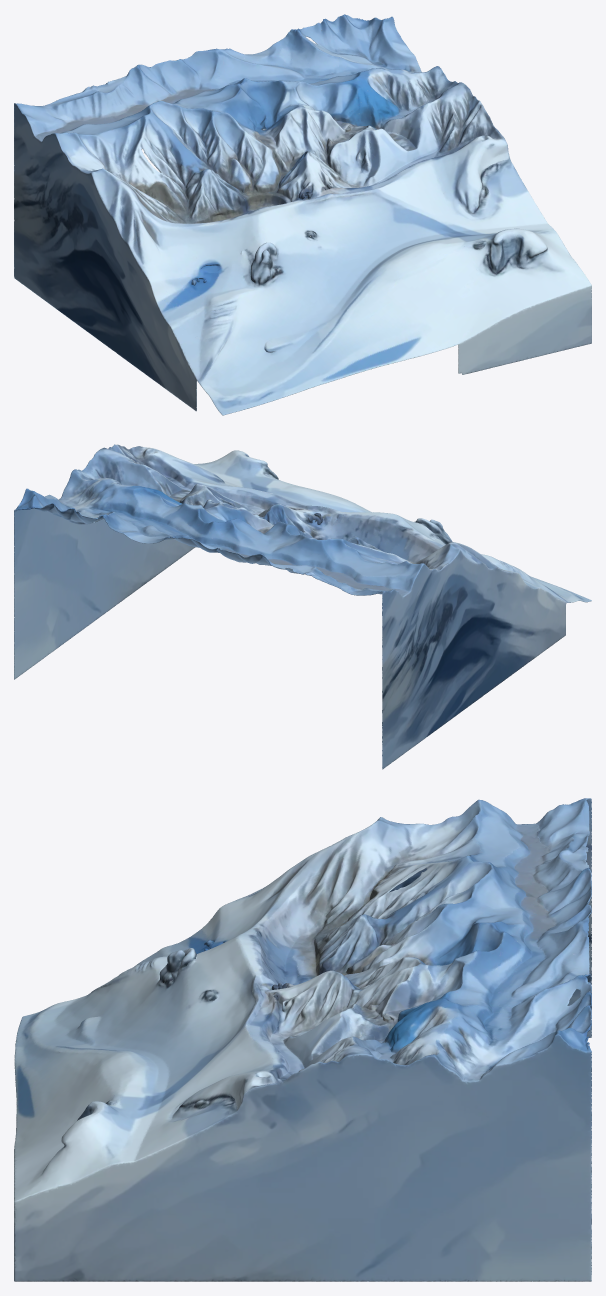
File: backdrop-ranges.glb
The picture shows the model from 3 angles, top to bottom: view 1: azimuth 30°, elevation 25°; view 2: azimuth 150°, elevation 25°; view 3: azimuth 270°, elevation 25°; orthographic projection. The views are drawn at different scales.
Parts seen in each view (by area): view 1: world; view 2: world; view 3: world.
Part boxes in pixels (x1,y1,x2,y2): world: [14, 14, 591, 415]; world: [14, 444, 591, 769]; world: [14, 798, 591, 1281].
Size of the model in its own units: 1 by 0.4804 by 1.
1 material, 1 textured.
